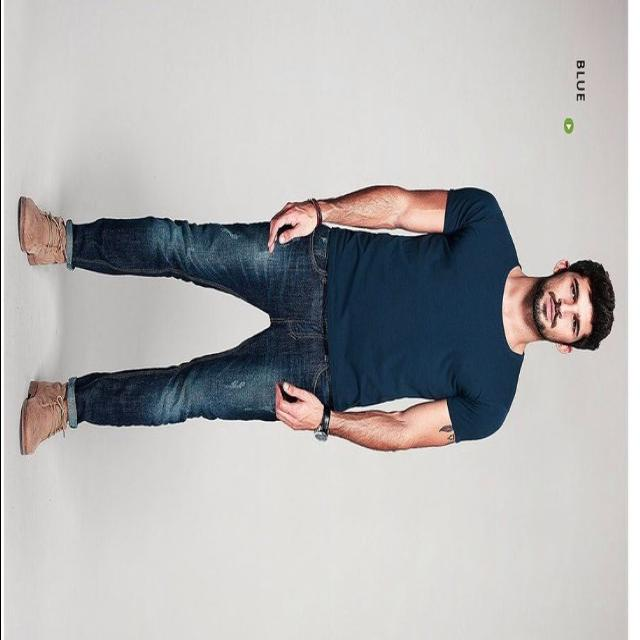shoulder: (456, 185, 518, 444)
